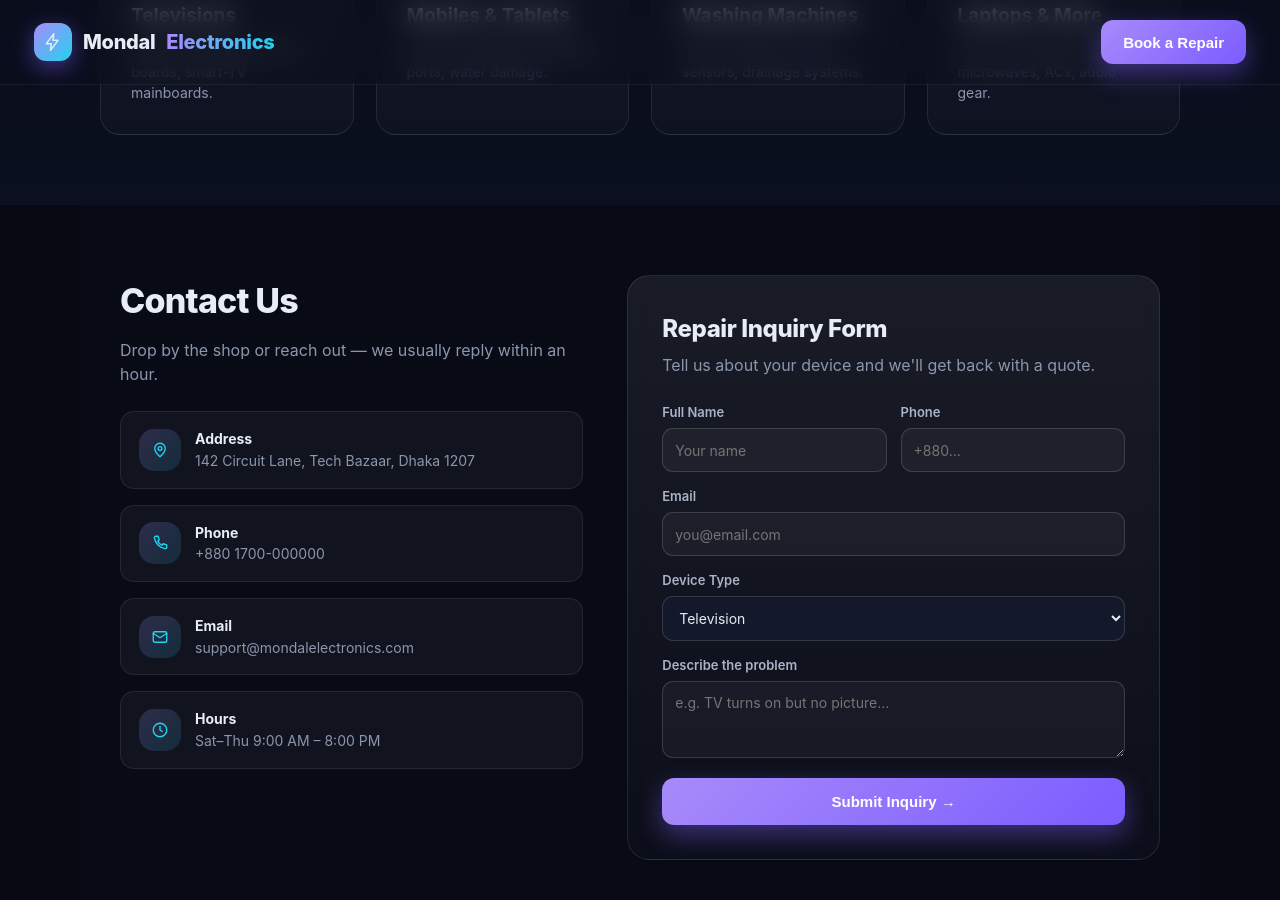
it: <App /> (integration) › shows an error message when the API fails
(page scrolled)
In the field with placeholder "Your name": (774,450) [662,428,887,472], type "Rahim"
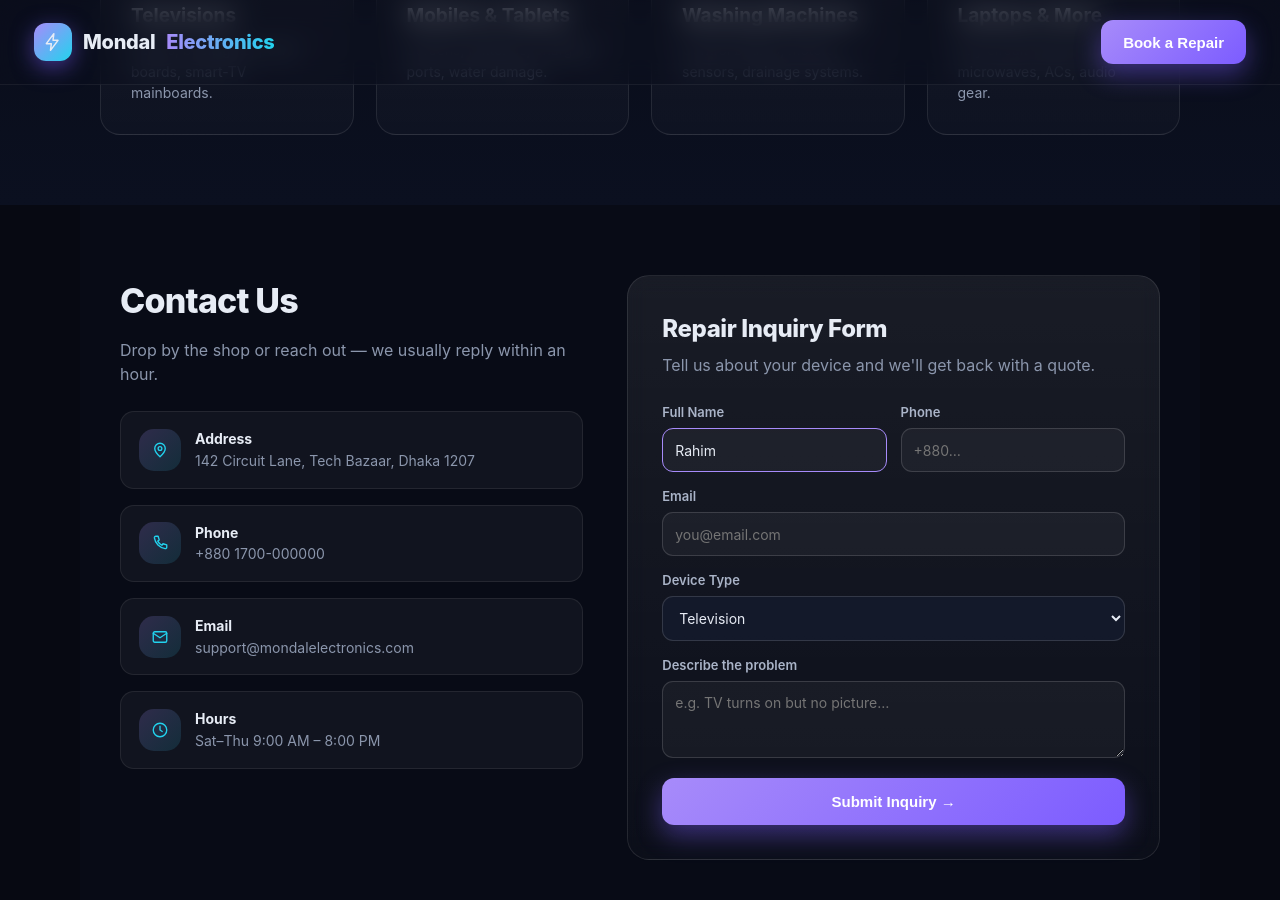
In the field with placeholder "+880…": (1013,450) [901,428,1125,472], type "+8801700000000"
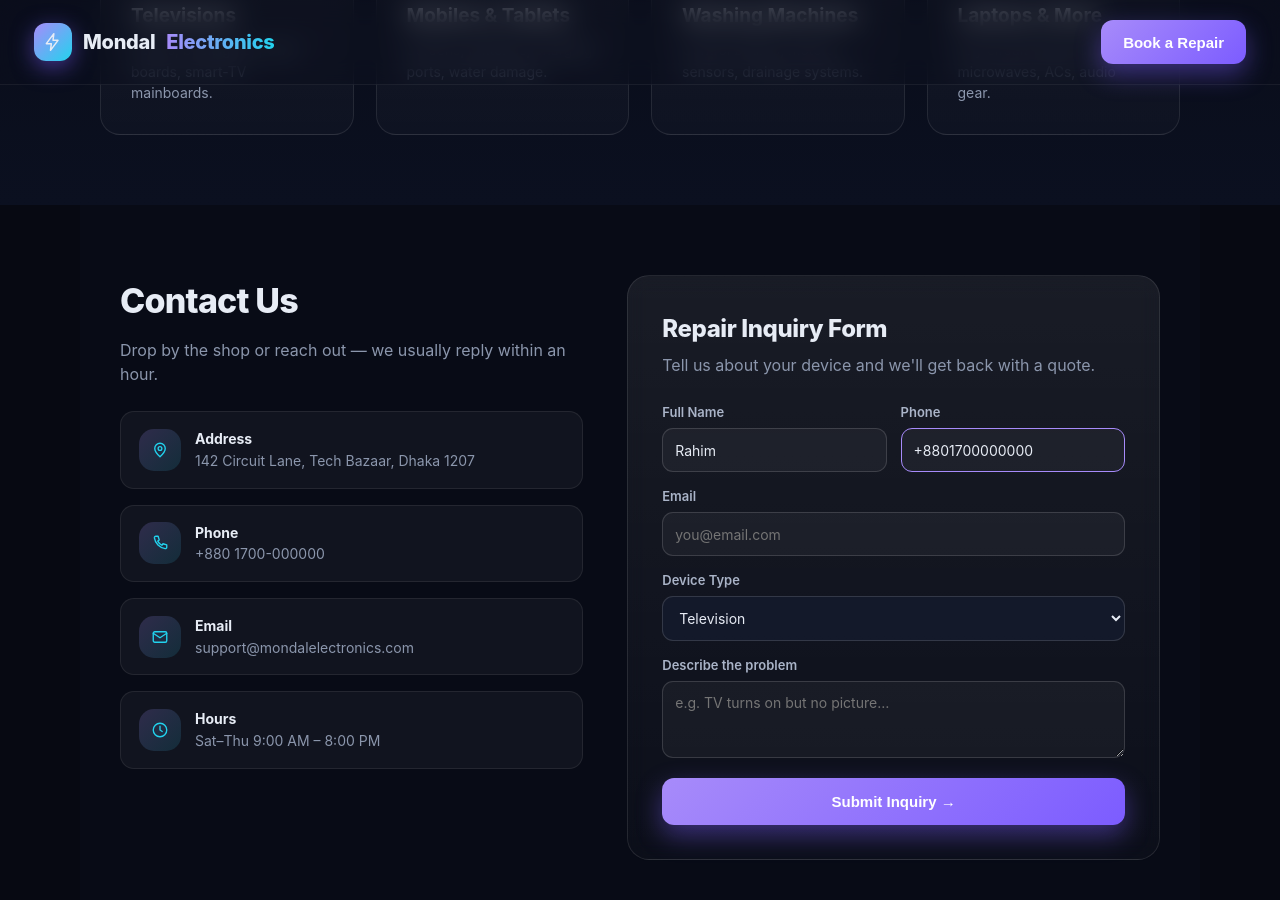
In the text box with placeholder "e.g. TV turns on but no picture…": (894,720) [662,681,1125,758], type "Broken."
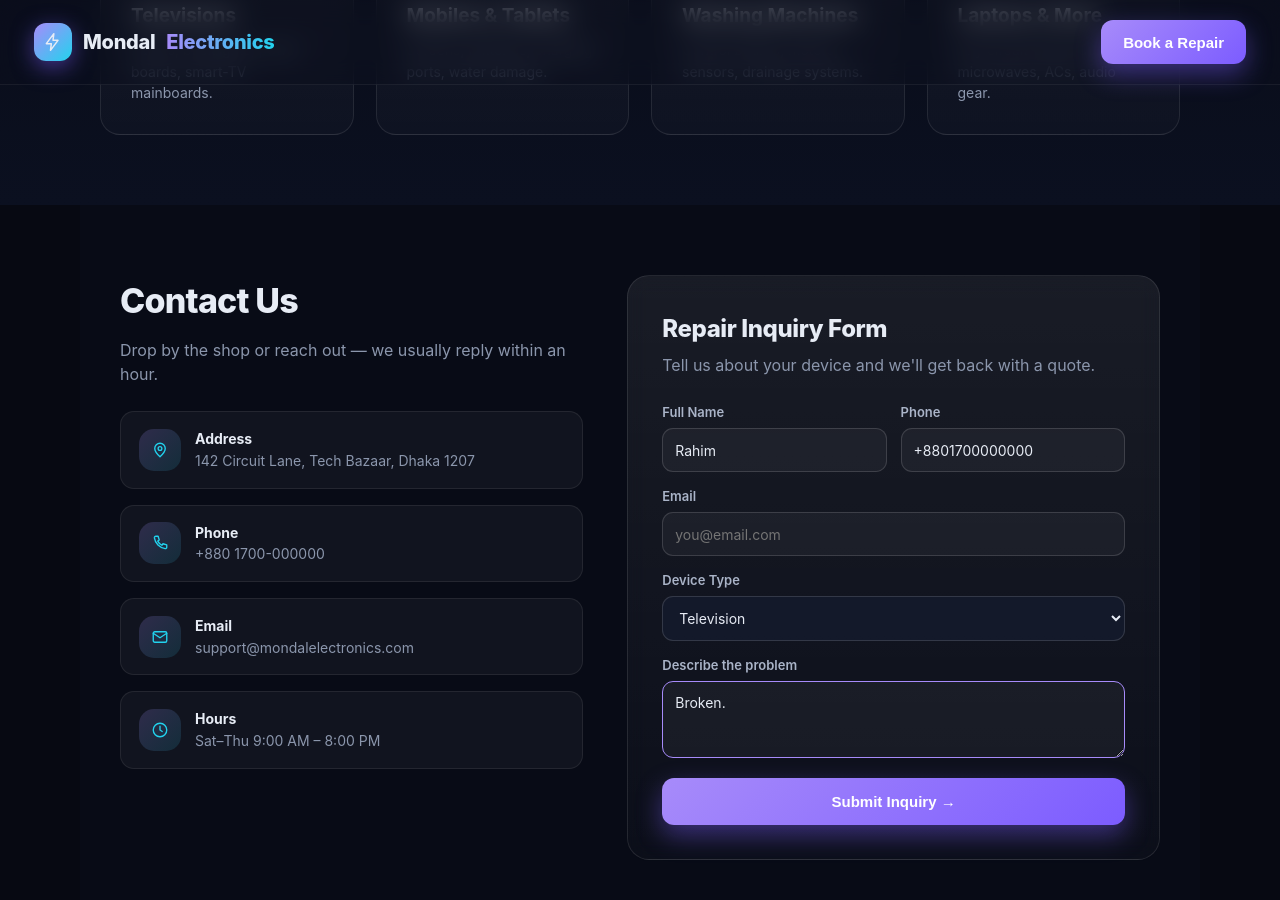
Click the button "Submit Inquiry →": (894,802) [662,778,1125,825]
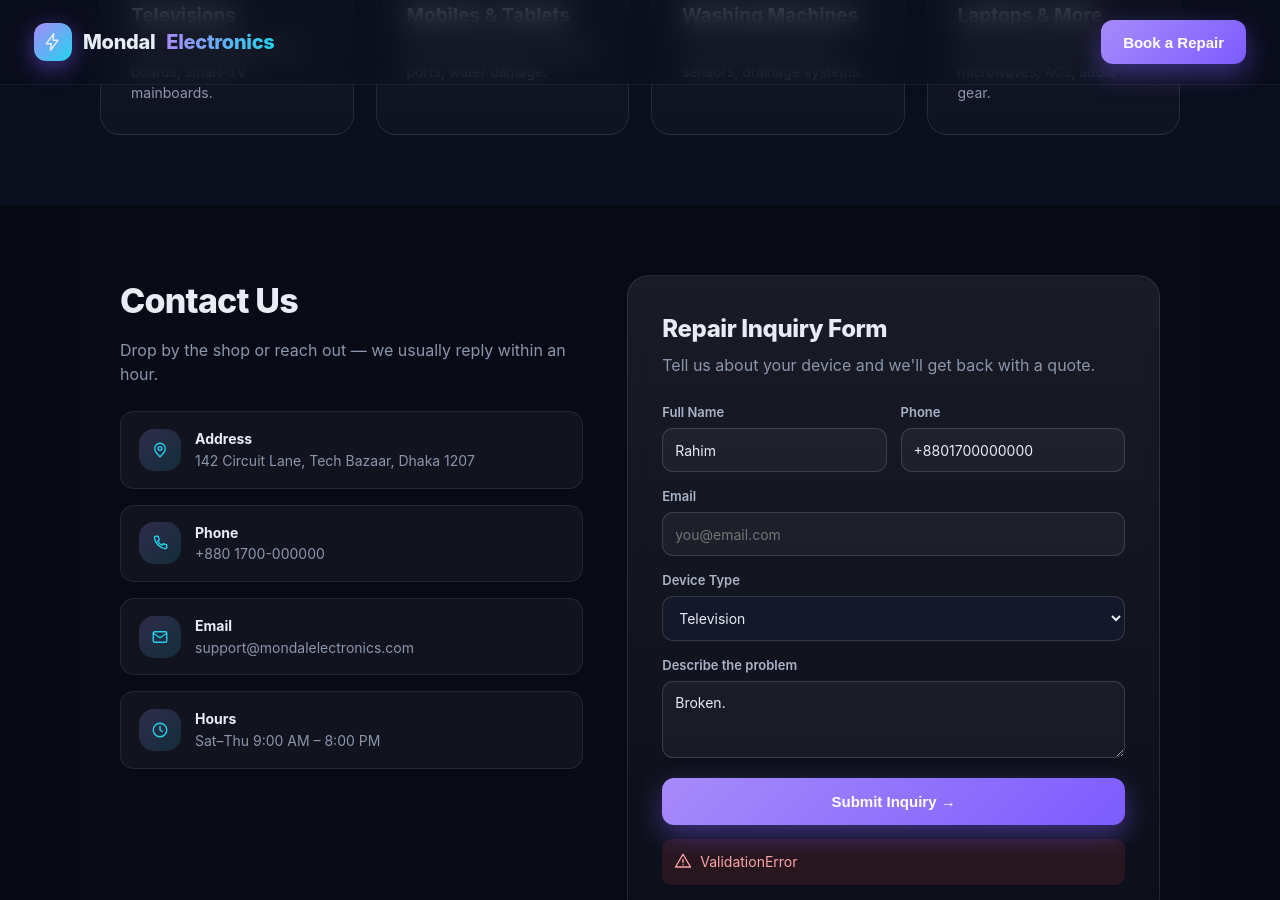
Expected: the text "ValidationError" is shown, [662,839,1125,885]
